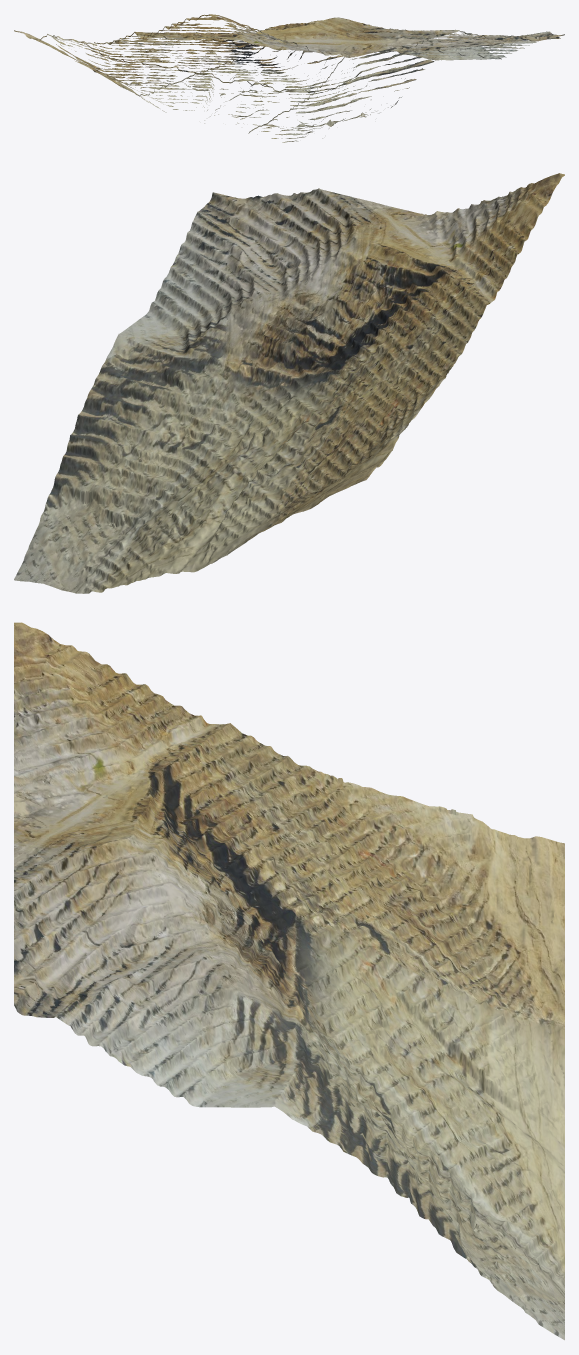
3 renders of one model, top to bottom at view 1: azimuth 30°, elevation 25°; view 2: azimuth 150°, elevation 25°; view 3: azimuth 270°, elevation 25°, orthographic. The views are drawn at different scales.
Parts seen in each view (by area): view 1: l2-0-0; view 2: l2-0-0; view 3: l2-0-0.
Part boxes in pixels (x1,y1,x2,y2): l2-0-0: [14, 14, 564, 142]; l2-0-0: [14, 173, 564, 593]; l2-0-0: [14, 622, 564, 1340].
Size of the model in its own units: 768 by 722 by 751.
1 material, 1 textured.
